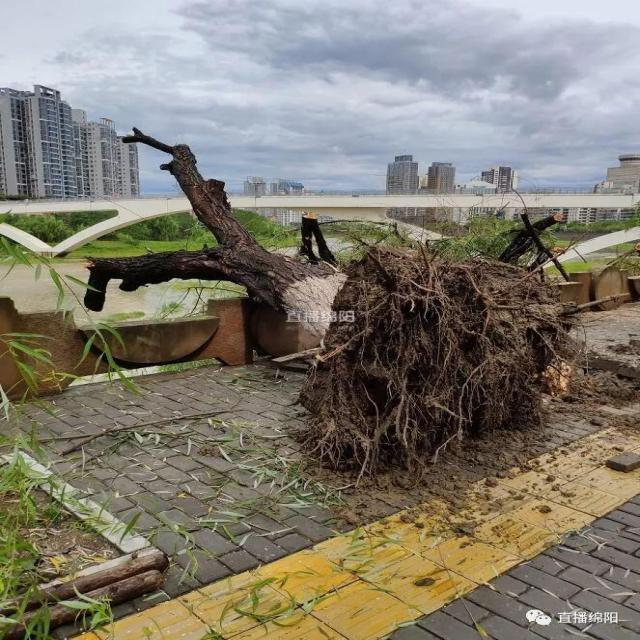fallen_object: (77, 119, 590, 472)
